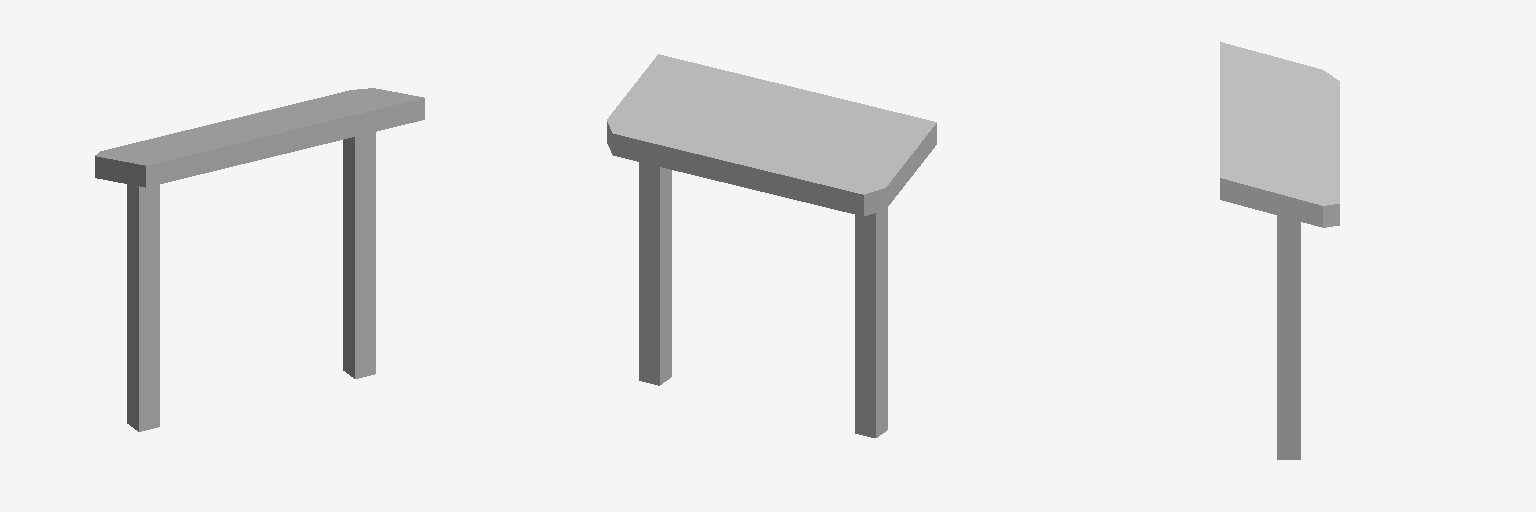
Rendered from detail-awning.obj.
3 views of the same model, side by side, from view 1: azimuth 30°, elevation 25°; view 2: azimuth 150°, elevation 25°; view 3: azimuth 270°, elevation 25° (orthographic).
Parts seen in each view (by area): view 1: detail-awning; view 2: detail-awning; view 3: detail-awning.
Part boxes in pixels (x1,y1,x2,y2): detail-awning: (95, 88, 424, 431); detail-awning: (607, 54, 936, 437); detail-awning: (1220, 42, 1339, 459).
Bounding box in the file's own units: 0.4 × 0.4 × 0.1479.